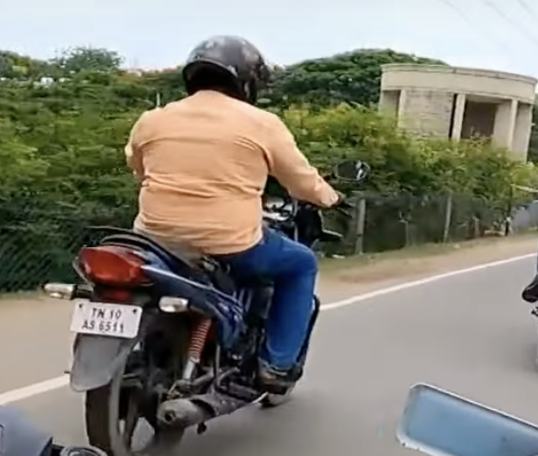motor: (64, 220, 321, 446)
number: (70, 300, 140, 337)
with helmet: (180, 31, 268, 106)
